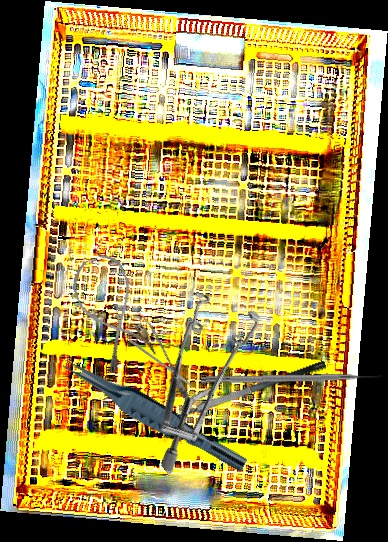Cannula: (65, 249, 158, 375)
Hook Surgical: (200, 373, 384, 386)
Micro Scissor: (104, 295, 201, 399)
Spatula Surgical: (145, 358, 332, 442)
Speculum: (90, 269, 305, 477)
Tissue Forceps: (55, 353, 254, 474)
